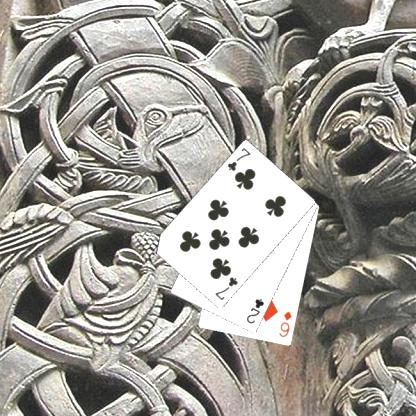2C: (243, 296, 266, 325)
6D: (277, 308, 293, 338)
7C: (224, 144, 252, 172), (212, 274, 239, 302)
